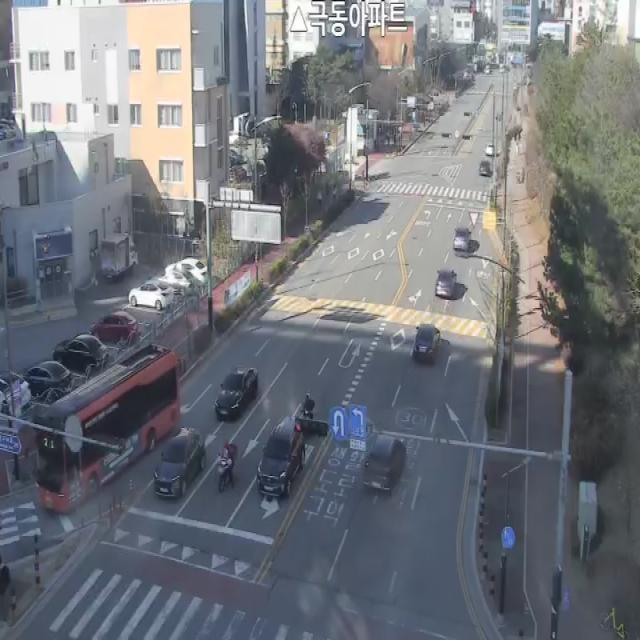Bus: (35, 343, 180, 514)
Car: (257, 416, 306, 498), (154, 426, 205, 499), (363, 436, 406, 493), (21, 361, 74, 406), (215, 365, 258, 418), (53, 334, 108, 375), (102, 232, 138, 281), (90, 312, 137, 347), (0, 371, 32, 417), (155, 271, 200, 299), (129, 282, 174, 309), (414, 323, 441, 368), (164, 257, 208, 282), (435, 268, 457, 298), (453, 227, 471, 250), (480, 160, 490, 175), (486, 144, 497, 156), (484, 65, 492, 76)
Motorcycle: (214, 430, 241, 498), (303, 387, 315, 427)
